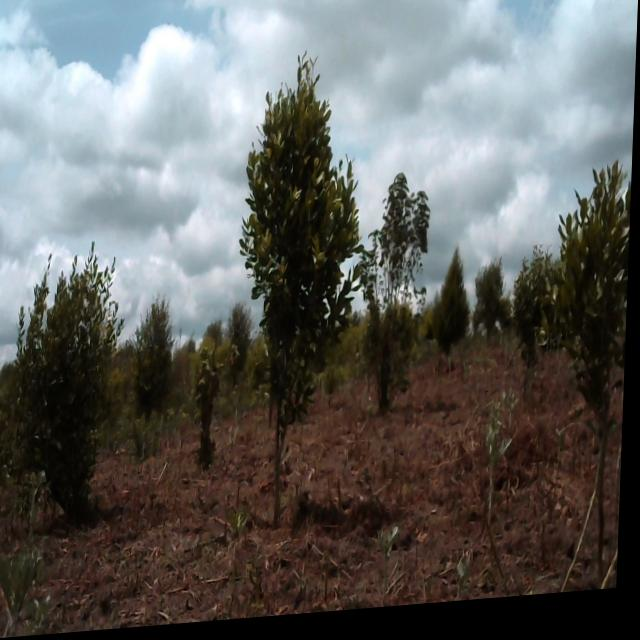Salix alba: (132, 297, 179, 411), (223, 293, 257, 383)
cedrus: (436, 252, 479, 389), (472, 254, 517, 355)
other: (229, 50, 389, 573), (8, 251, 129, 539), (544, 174, 634, 496), (353, 175, 441, 399)
